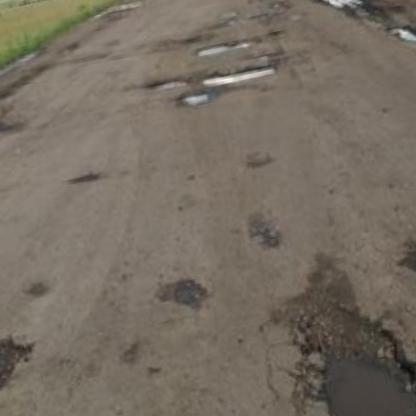pothole: (290, 288, 416, 416), (0, 329, 47, 416), (202, 61, 279, 90), (196, 33, 262, 59), (170, 272, 209, 311), (147, 73, 188, 95), (387, 18, 416, 48), (180, 89, 211, 109), (68, 168, 99, 186), (271, 0, 290, 13), (249, 11, 270, 22)
